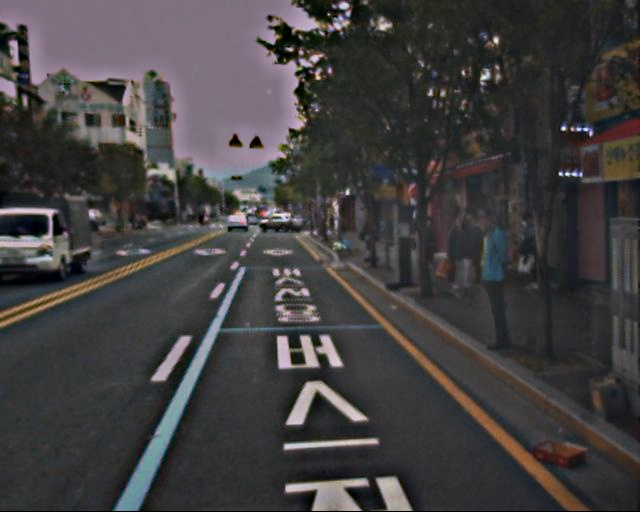person: (459, 215, 520, 347), (440, 212, 476, 297), (513, 214, 545, 285), (420, 218, 439, 272)
